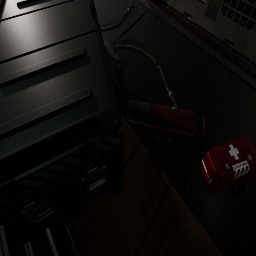0: (0, 0, 4, 8)
FirstAidBox ,: (200, 136, 256, 198)
NitrogenTank ,: (127, 98, 206, 145)
